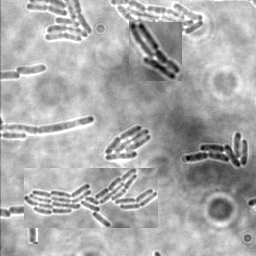Dividing: (1, 114, 95, 133), (27, 217, 38, 244)
Microcolony: (24, 168, 158, 228), (129, 22, 182, 81), (25, 1, 94, 44), (184, 130, 248, 167), (103, 124, 150, 160), (16, 63, 48, 74)
